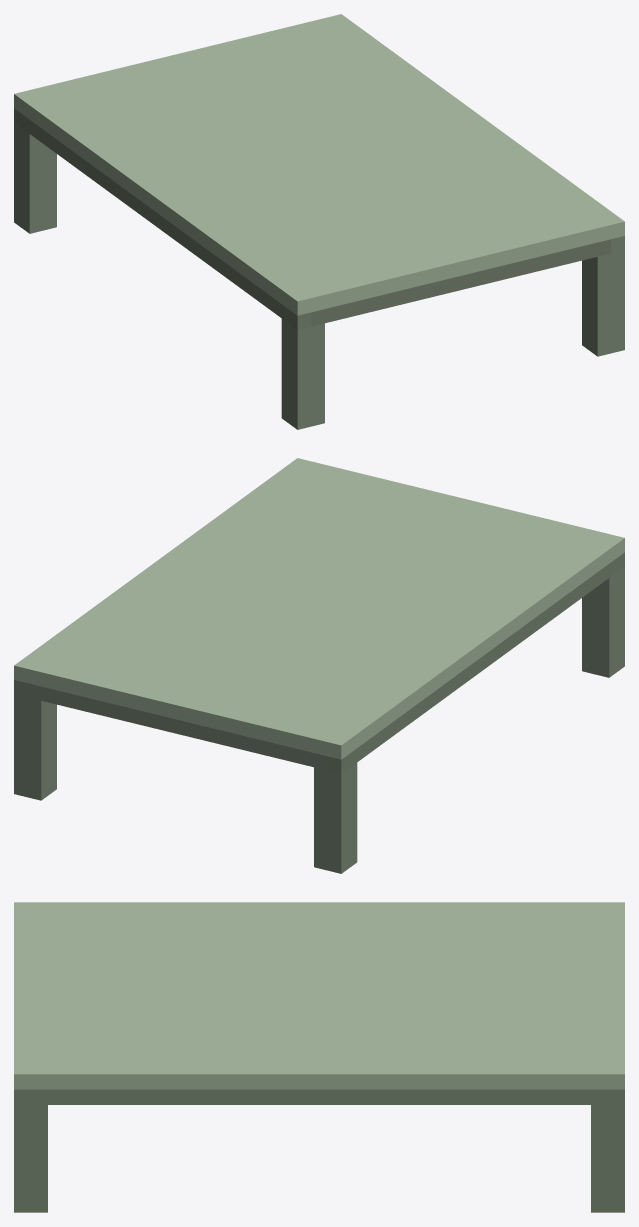
File: mesa_comedor_desgastada_01.glb
3 renders of one model, top to bottom at view 1: azimuth 30°, elevation 25°; view 2: azimuth 150°, elevation 25°; view 3: azimuth 270°, elevation 25°, orthographic. The views are drawn at different scales.
Visible parts, largest first — view 1: mesa_comedor_desgastada; view 2: mesa_comedor_desgastada; view 3: mesa_comedor_desgastada.
Boxes of the visible parts, box(x1,y1,x2,y2) form: mesa_comedor_desgastada: box(14, 14, 624, 429); mesa_comedor_desgastada: box(14, 458, 624, 873); mesa_comedor_desgastada: box(14, 902, 624, 1212).
Size of the model in its own units: 2 by 0.75 by 3.
